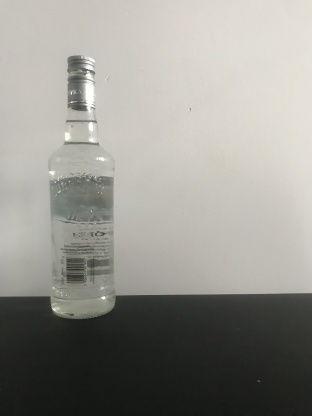nakretka: (66, 54, 96, 110)
